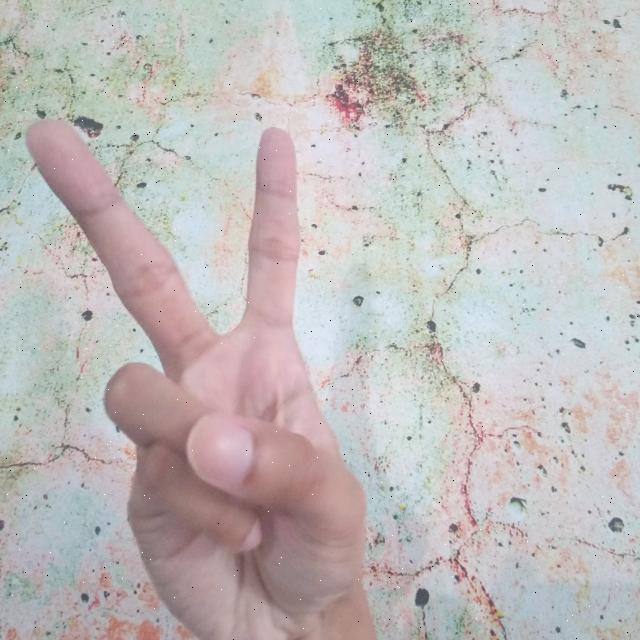V: (17, 112, 379, 640)
